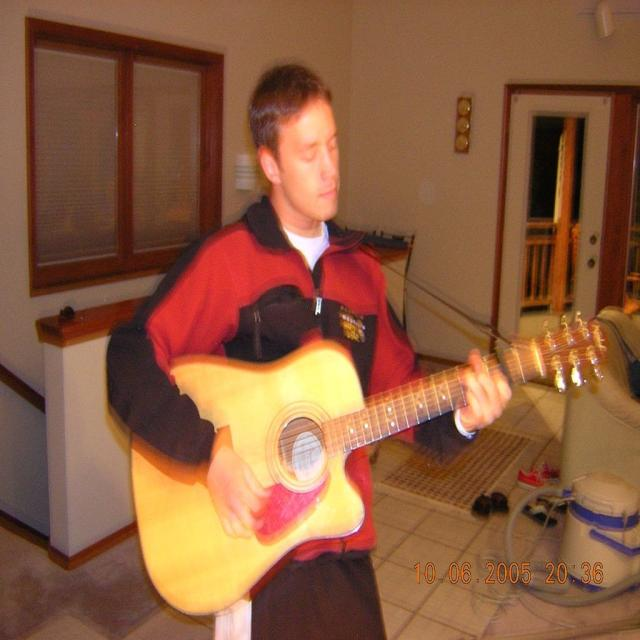guitar: (131, 314, 611, 618)
